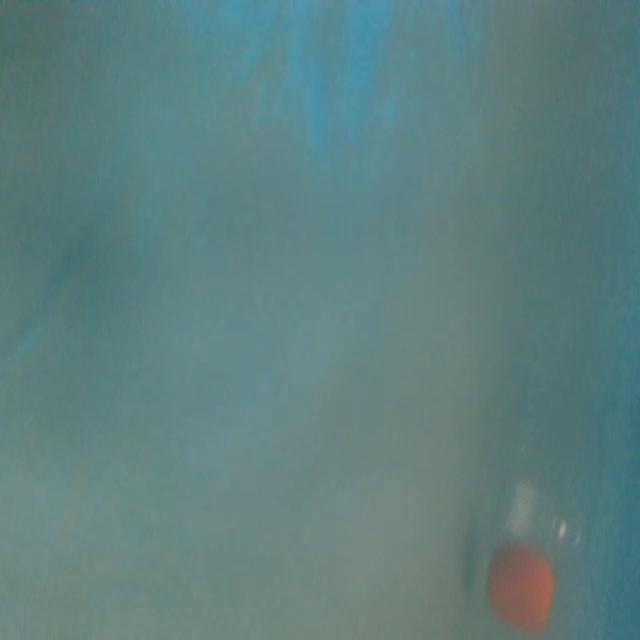plastic bottle: (479, 349, 606, 635)
